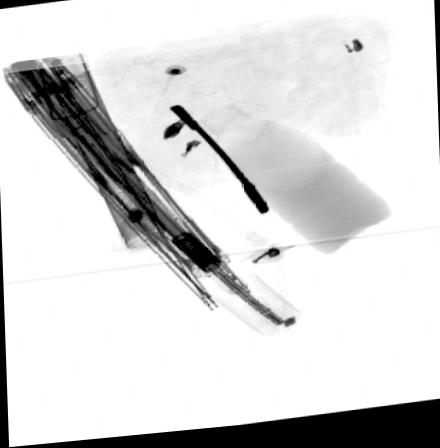Wrench: (168, 101, 271, 221)
